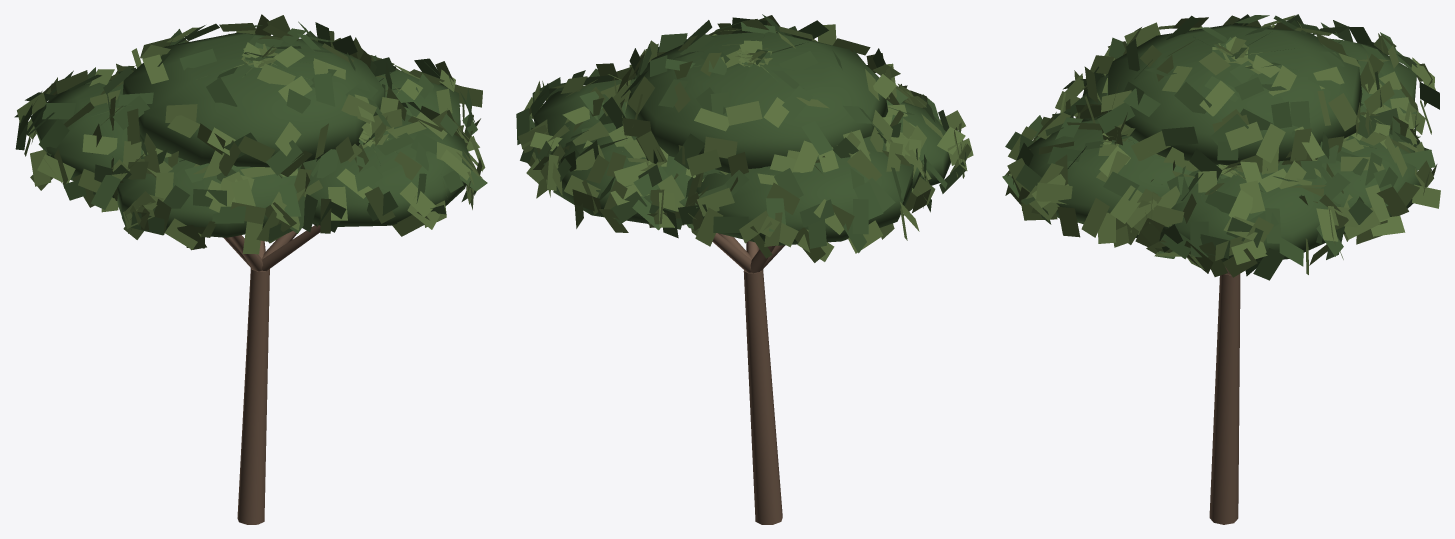
Rendered from umbrella-pine.glb.
3 views of the same model, side by side, from view 1: azimuth 30°, elevation 25°; view 2: azimuth 150°, elevation 25°; view 3: azimuth 270°, elevation 25° (orthographic). The views are drawn at different scales.
Parts seen in each view (by area): view 1: umbrella-pine-pine-needles, umbrella-pine-pine-needles-light, umbrella-pine-pine-bark; view 2: umbrella-pine-pine-needles, umbrella-pine-pine-needles-light, umbrella-pine-pine-bark; view 3: umbrella-pine-pine-needles, umbrella-pine-pine-needles-light, umbrella-pine-pine-bark.
Boxes of the visible parts, bbox=[...] form: umbrella-pine-pine-needles: bbox=[14, 21, 487, 242]; umbrella-pine-pine-needles-light: bbox=[17, 14, 485, 254]; umbrella-pine-pine-bark: bbox=[223, 225, 320, 524]; umbrella-pine-pine-needles: bbox=[516, 14, 965, 253]; umbrella-pine-pine-needles-light: bbox=[518, 15, 973, 262]; umbrella-pine-pine-bark: bbox=[712, 233, 784, 524]; umbrella-pine-pine-needles: bbox=[1002, 14, 1439, 280]; umbrella-pine-pine-needles-light: bbox=[1005, 15, 1440, 277]; umbrella-pine-pine-bark: bbox=[1209, 267, 1240, 524].
Size of the model in its own units: 11.73 by 12.56 by 10.34.
